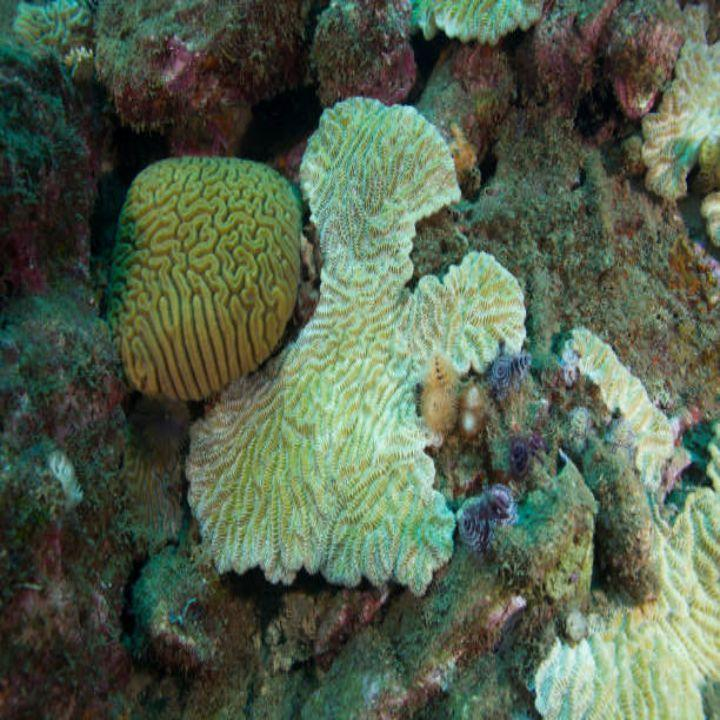Bleached disease: (316, 96, 593, 576), (626, 388, 715, 719), (164, 407, 307, 591), (645, 31, 719, 230)
Healthy Coral: (93, 143, 300, 376)
